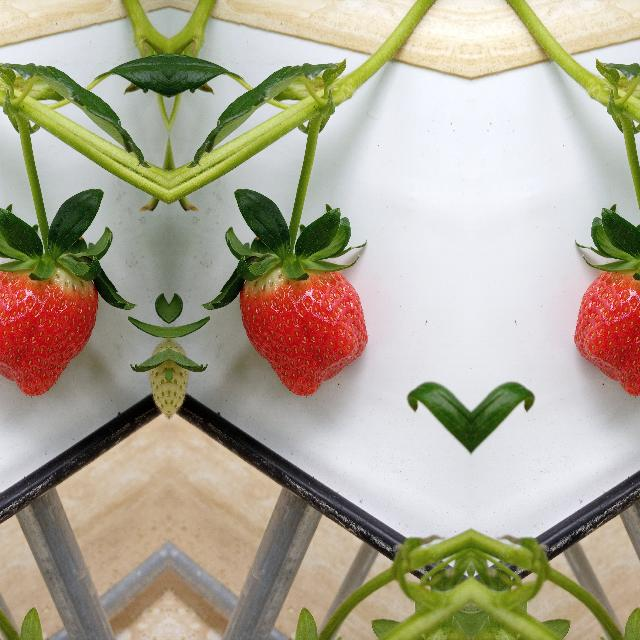Health_100: (238, 260, 368, 398), (0, 260, 98, 397), (573, 260, 640, 397)
